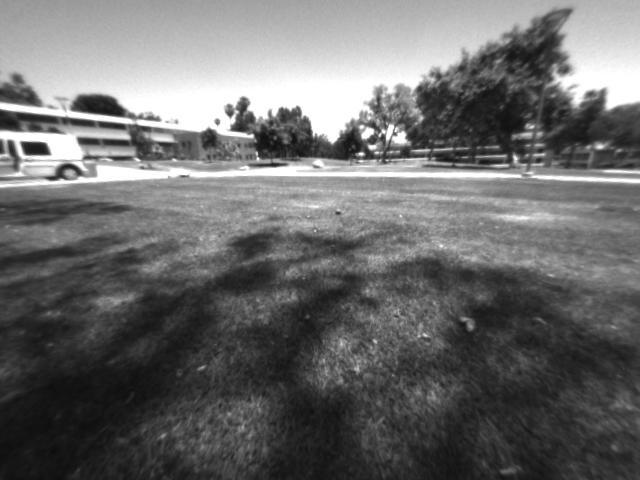dogtoy: (326, 201, 352, 226)
